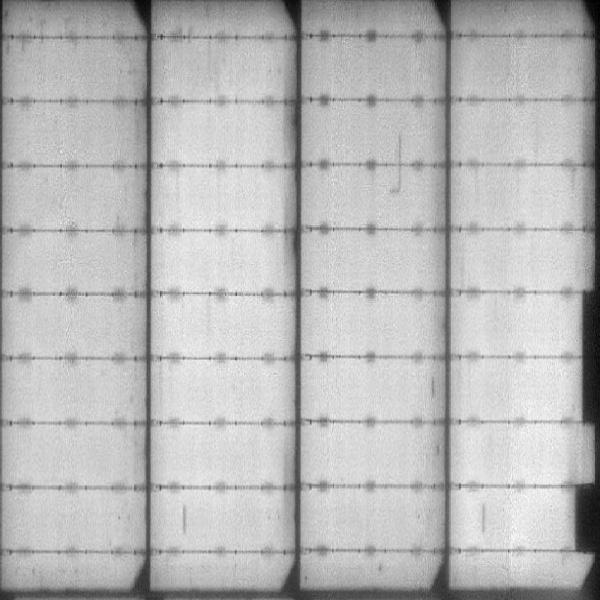black_border: (574, 280, 600, 434), (571, 473, 600, 559)
scratch: (391, 129, 409, 194), (176, 499, 192, 536), (478, 501, 493, 539)
